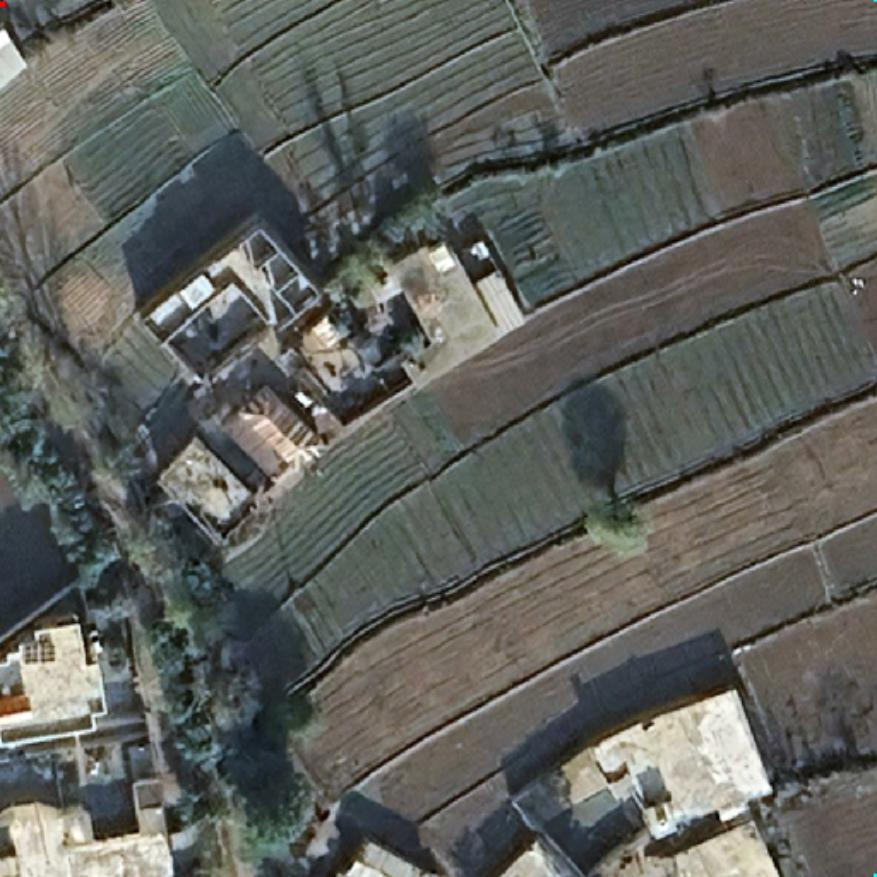Solarpanel: (20, 632, 58, 666)
